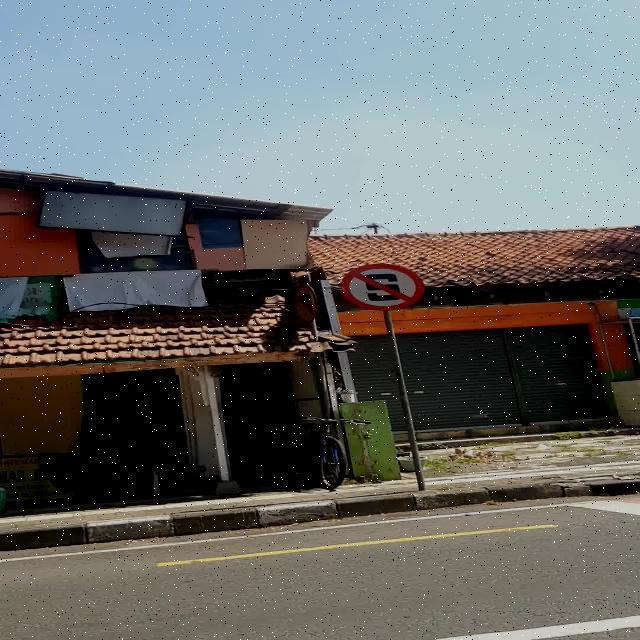Dilarang Berhenti: (342, 263, 424, 310)
